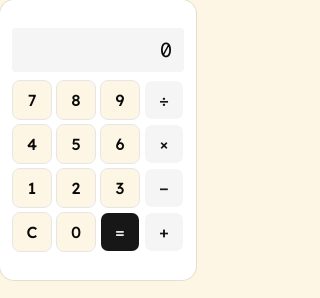
Test: OnScreenCalculator › clears display on C
The width and height of the screenshot is (320, 298).
Click the button "9" at (120, 100), box [100,80,140,120]
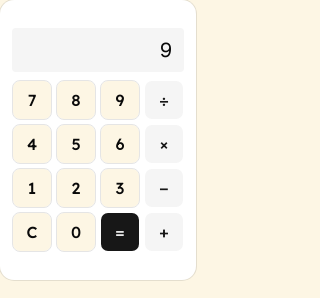
Click the button "C" at (32, 232), box [12,212,52,252]
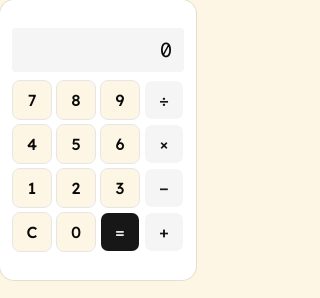
Expected: the message reads "0", [160,37,172,63]
